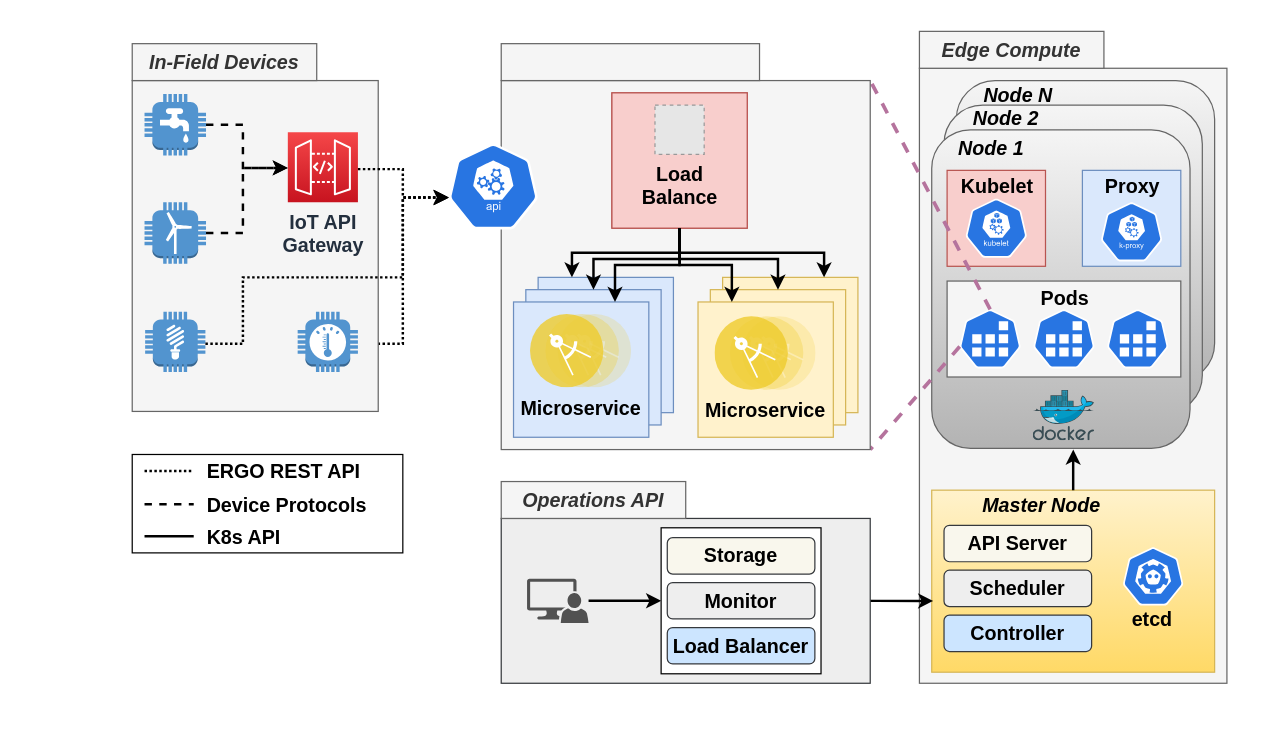
The diagram is 1284 pixels wide and 731 high, and some of its shapes have lost their labels. Grey dashed boxes stand in for pictures. Here are the shapes that lost their labels. From the top down, the centre of each, then its label:
[630,61]: ERGO Application API
[174,124]: S1
[174,232]: S2
[174,341]: S3
[327,341]: S4
[557,600]: Admin
